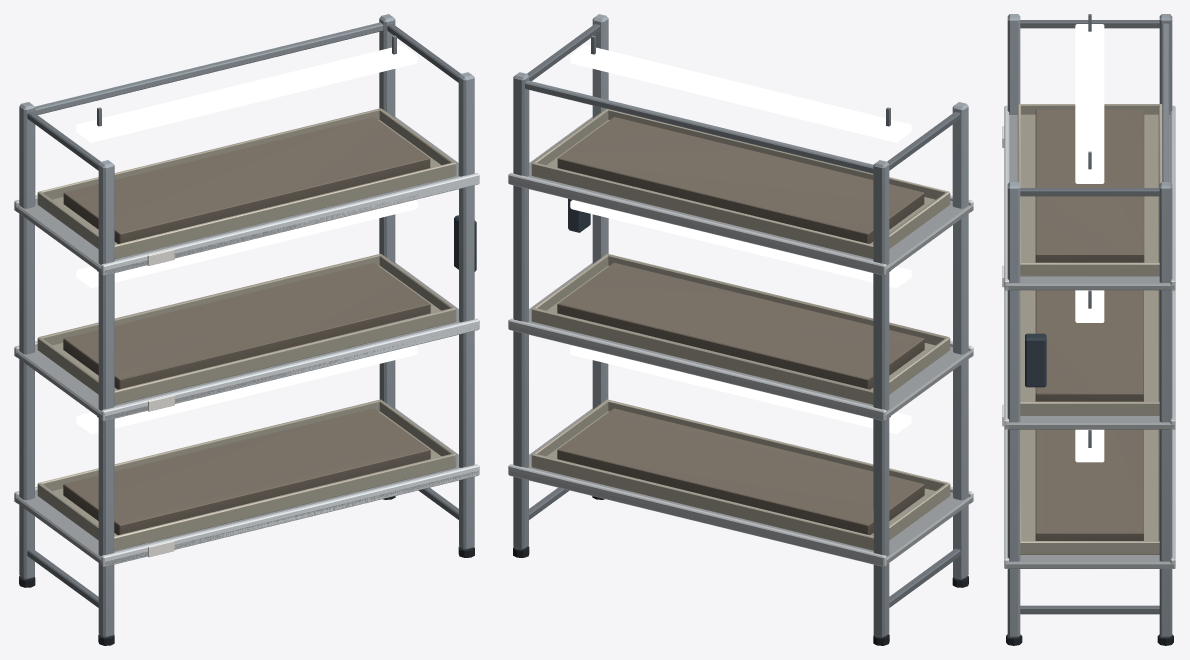
Rendered from aux_rack.glb.
The picture shows the model from 3 angles, left to right: view 1: azimuth 30°, elevation 25°; view 2: azimuth 150°, elevation 25°; view 3: azimuth 270°, elevation 25°; orthographic projection. The views are drawn at different scales.
Parts seen in each view (by area): view 1: aux_rack, rack_led; view 2: aux_rack, rack_led; view 3: aux_rack, rack_led.
Part boxes in pixels (x1,y1,x2,y2): aux_rack: (14,14,479,645); rack_led: (76,45,417,433); aux_rack: (508,14,973,645); rack_led: (570,45,911,433); aux_rack: (1002,14,1175,645); rack_led: (1075,24,1104,462).
Size of the model in its own units: 2.35 by 2.9 by 0.96.
Materials: 2 (1 with a texture image).
